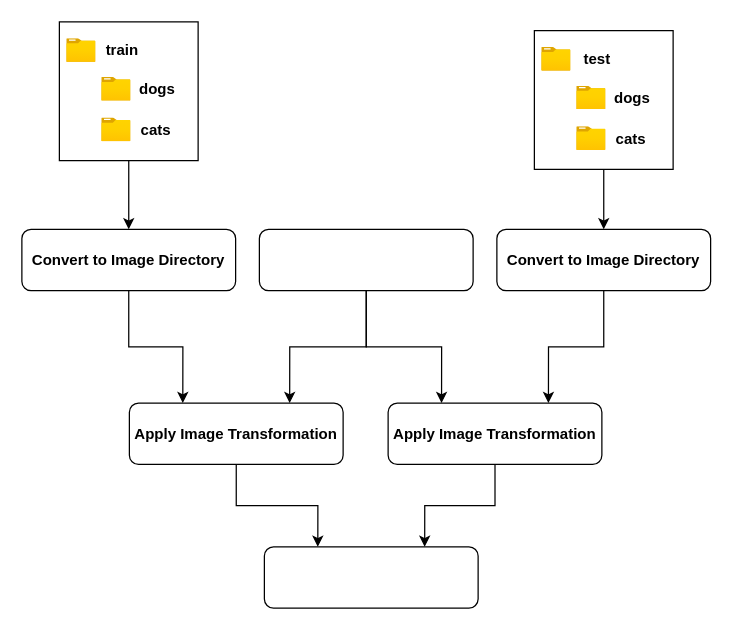
The diagram is 733 pixels wide and 630 high, and some of its shapes have lost their labels. The shapes that lost their labels are listed below. From the top down, each one's box as (x1, y1, x2, y2) in pixels, then its label:
(258, 228, 473, 291): Init Image Transformation
(263, 546, 478, 608): Train Image Classification
